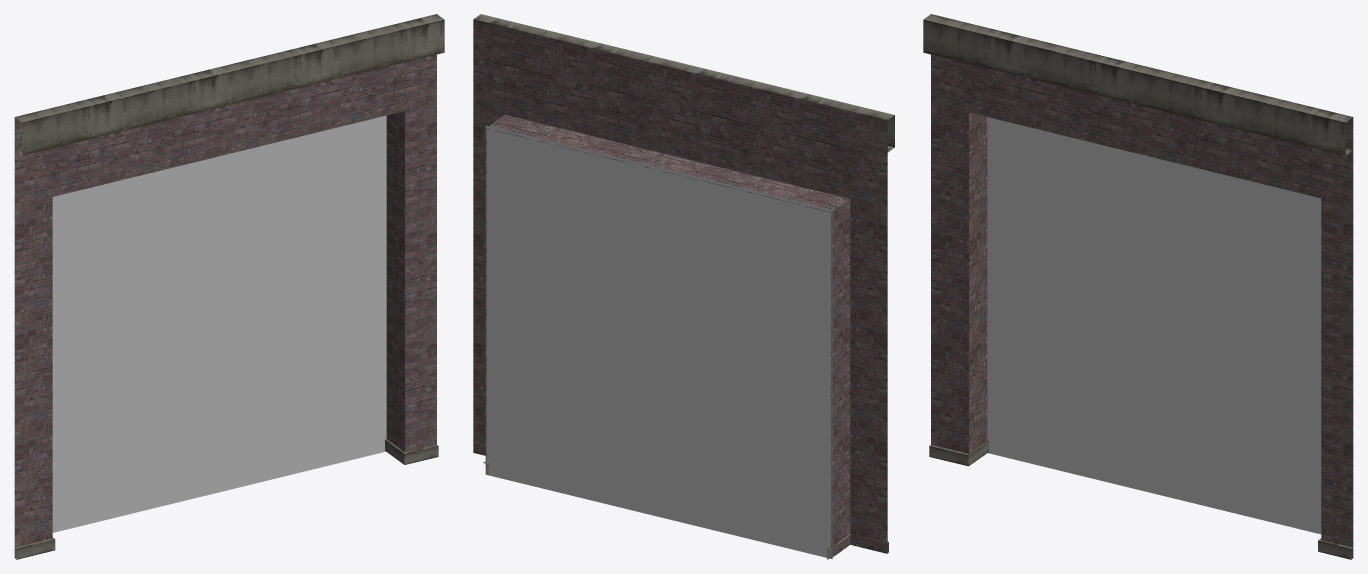
The model's file is Wall_D_Brick_DoorsHigh_4x.FBX.
3 renders of one model, left to right at view 1: azimuth 30°, elevation 25°; view 2: azimuth 150°, elevation 25°; view 3: azimuth 330°, elevation 25°, orthographic.
Parts seen in each view (by area): view 1: Wall_D_Brick_DoorsHigh_4x; view 2: Wall_D_Brick_DoorsHigh_4x; view 3: Wall_D_Brick_DoorsHigh_4x.
Part boxes in pixels (box(x1,y1,x2,y2)): Wall_D_Brick_DoorsHigh_4x: box(14, 14, 444, 559); Wall_D_Brick_DoorsHigh_4x: box(473, 14, 894, 559); Wall_D_Brick_DoorsHigh_4x: box(923, 14, 1353, 559).
Bounding box in the file's own units: 400 × 401 × 48.04.
